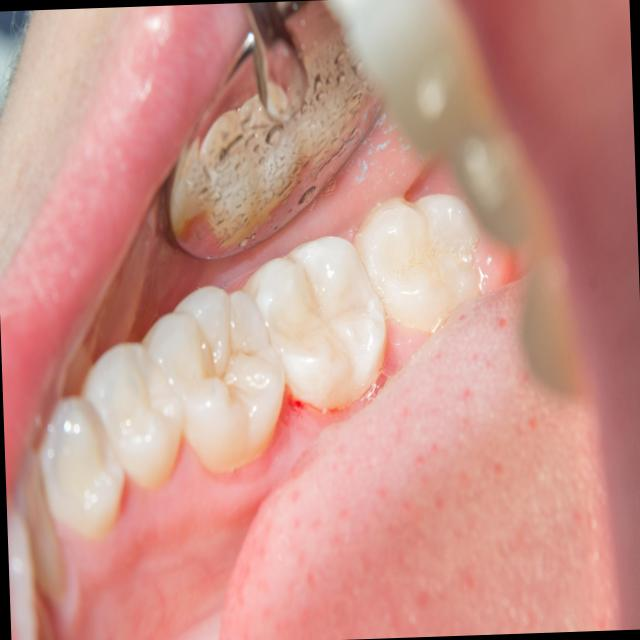Tooth: (141, 286, 285, 472), (242, 235, 386, 409), (354, 193, 478, 331), (80, 343, 182, 488), (41, 397, 124, 536)
